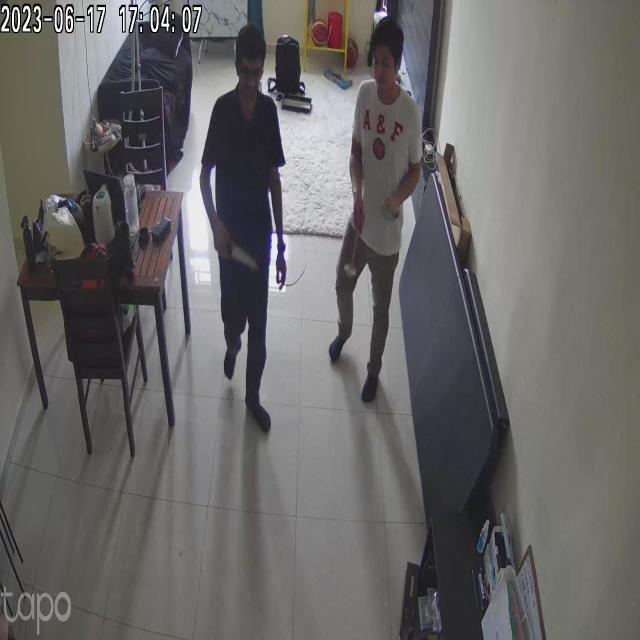Knife: (214, 238, 274, 281)
